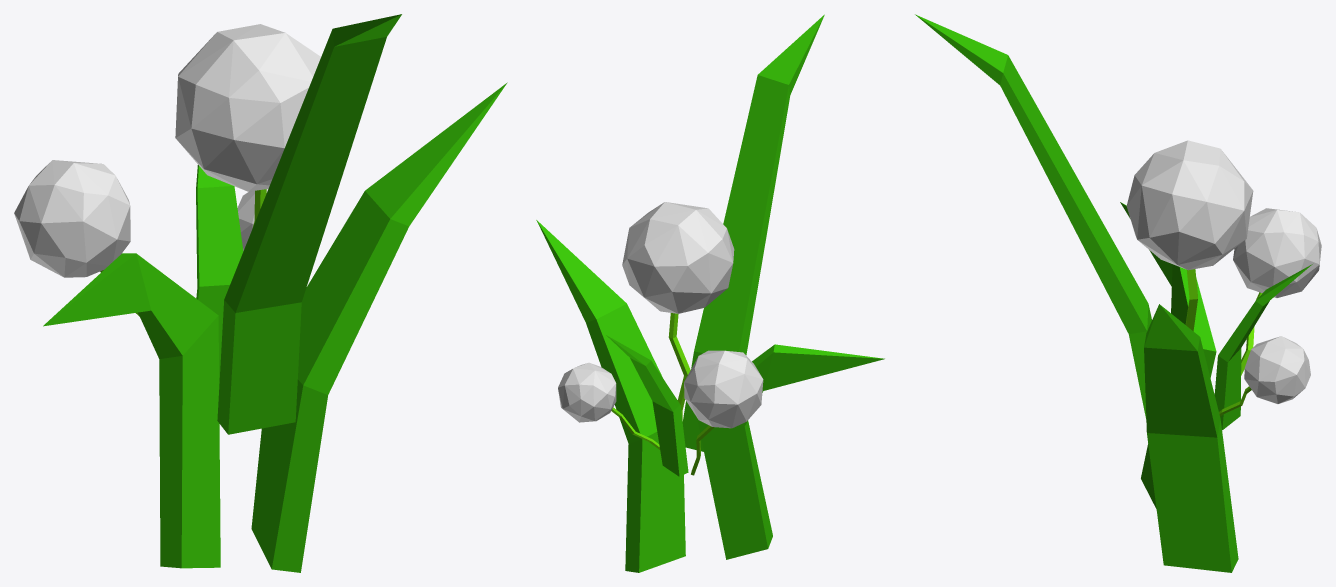
Rendered from Dandelion_Puff_3.fbx.
3 views of the same model, side by side, from view 1: azimuth 30°, elevation 25°; view 2: azimuth 150°, elevation 25°; view 3: azimuth 270°, elevation 25° (orthographic). The views are drawn at different scales.
Parts seen in each view (by area): view 1: Dandelion Puffs; view 2: Dandelion Puffs; view 3: Dandelion Puffs.
Boxes of the visible parts, x1,y1,x2,y2 form: Dandelion Puffs: (14, 14, 507, 572); Dandelion Puffs: (536, 14, 884, 572); Dandelion Puffs: (915, 14, 1321, 572).
Bounding box in the file's own units: 24.94 × 33.68 × 23.54.
